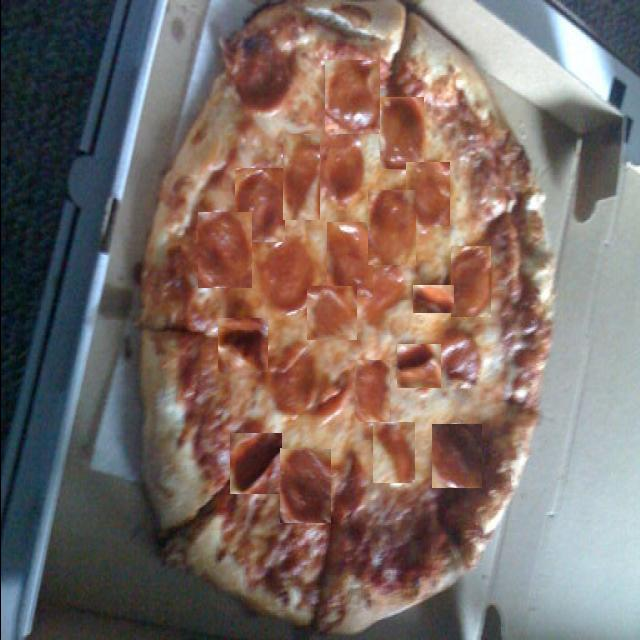pepperoni: (258, 238, 314, 315), (234, 38, 290, 114), (197, 212, 251, 288), (324, 60, 379, 134), (279, 449, 330, 523), (234, 168, 284, 242), (367, 190, 415, 265), (268, 344, 317, 416), (326, 222, 372, 297), (229, 434, 281, 496), (431, 424, 481, 488), (282, 134, 319, 220), (379, 97, 423, 169), (358, 264, 406, 330), (316, 131, 362, 199), (450, 246, 490, 317), (405, 162, 449, 226), (306, 286, 356, 341), (217, 318, 267, 372), (437, 331, 480, 392), (372, 422, 414, 483), (354, 360, 389, 422), (396, 344, 440, 388), (412, 285, 453, 313)
pizza: (140, 2, 553, 640)
